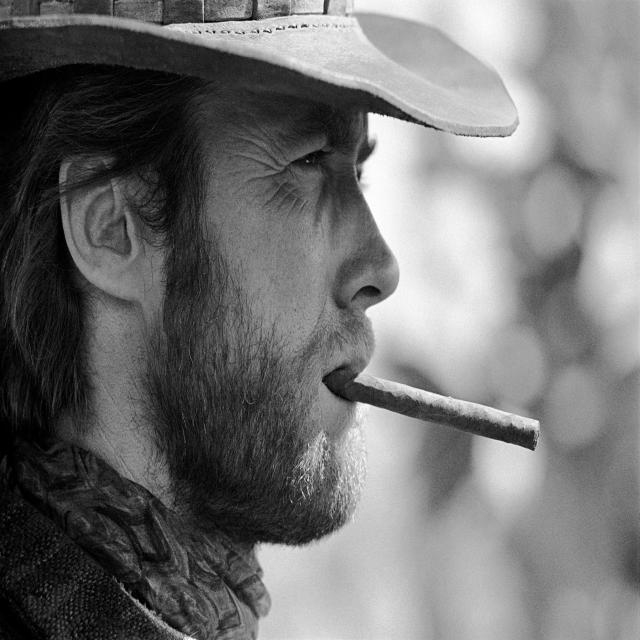no-earmuff: (58, 148, 144, 300)
